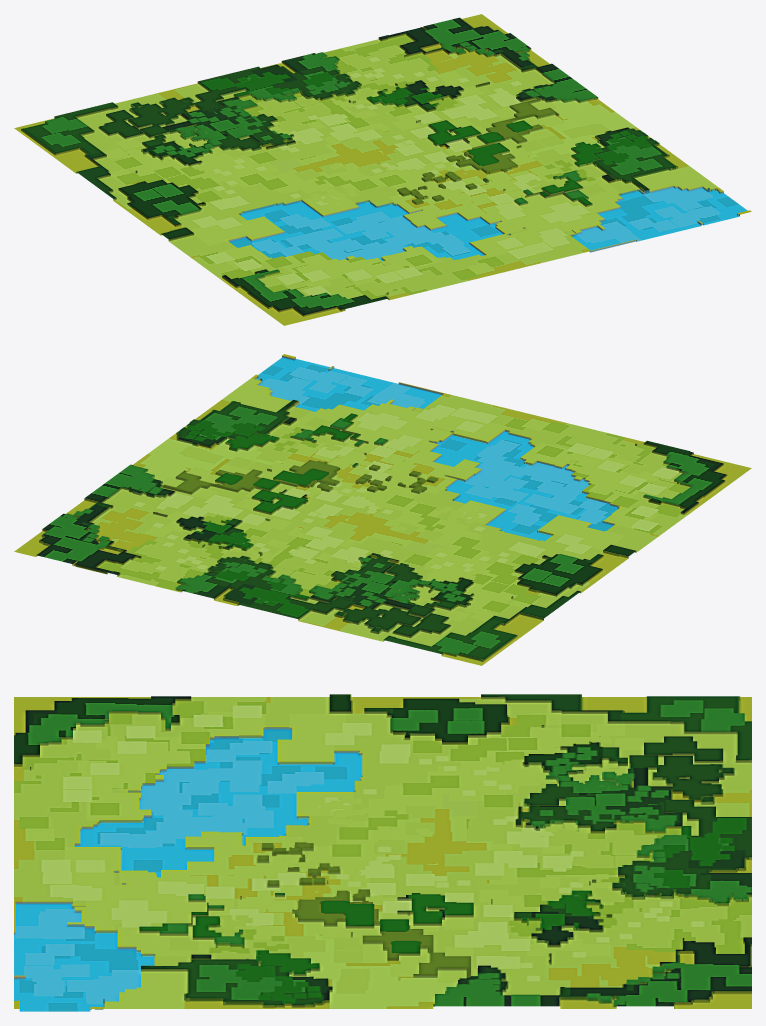
Rendered from  result_file.dae.
The picture shows the model from 3 angles, top to bottom: view 1: azimuth 30°, elevation 25°; view 2: azimuth 150°, elevation 25°; view 3: azimuth 270°, elevation 25°; orthographic projection. The views are drawn at different scales.
Parts seen in each view (by area): view 1: PlaneTEX; view 2: PlaneTEX; view 3: PlaneTEX.
Part boxes in pixels (box(x1,y1,x2,y2)): PlaneTEX: box(14, 14, 751, 325); PlaneTEX: box(14, 354, 751, 665); PlaneTEX: box(14, 694, 751, 1011).
Size of the model in its own units: 512 by 512 by 4.
Materials: 1 (1 with a texture image).
